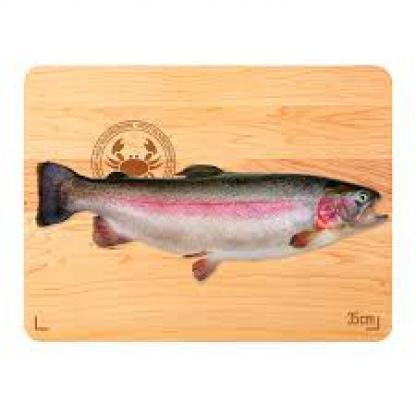fish: (31, 157, 387, 278)
